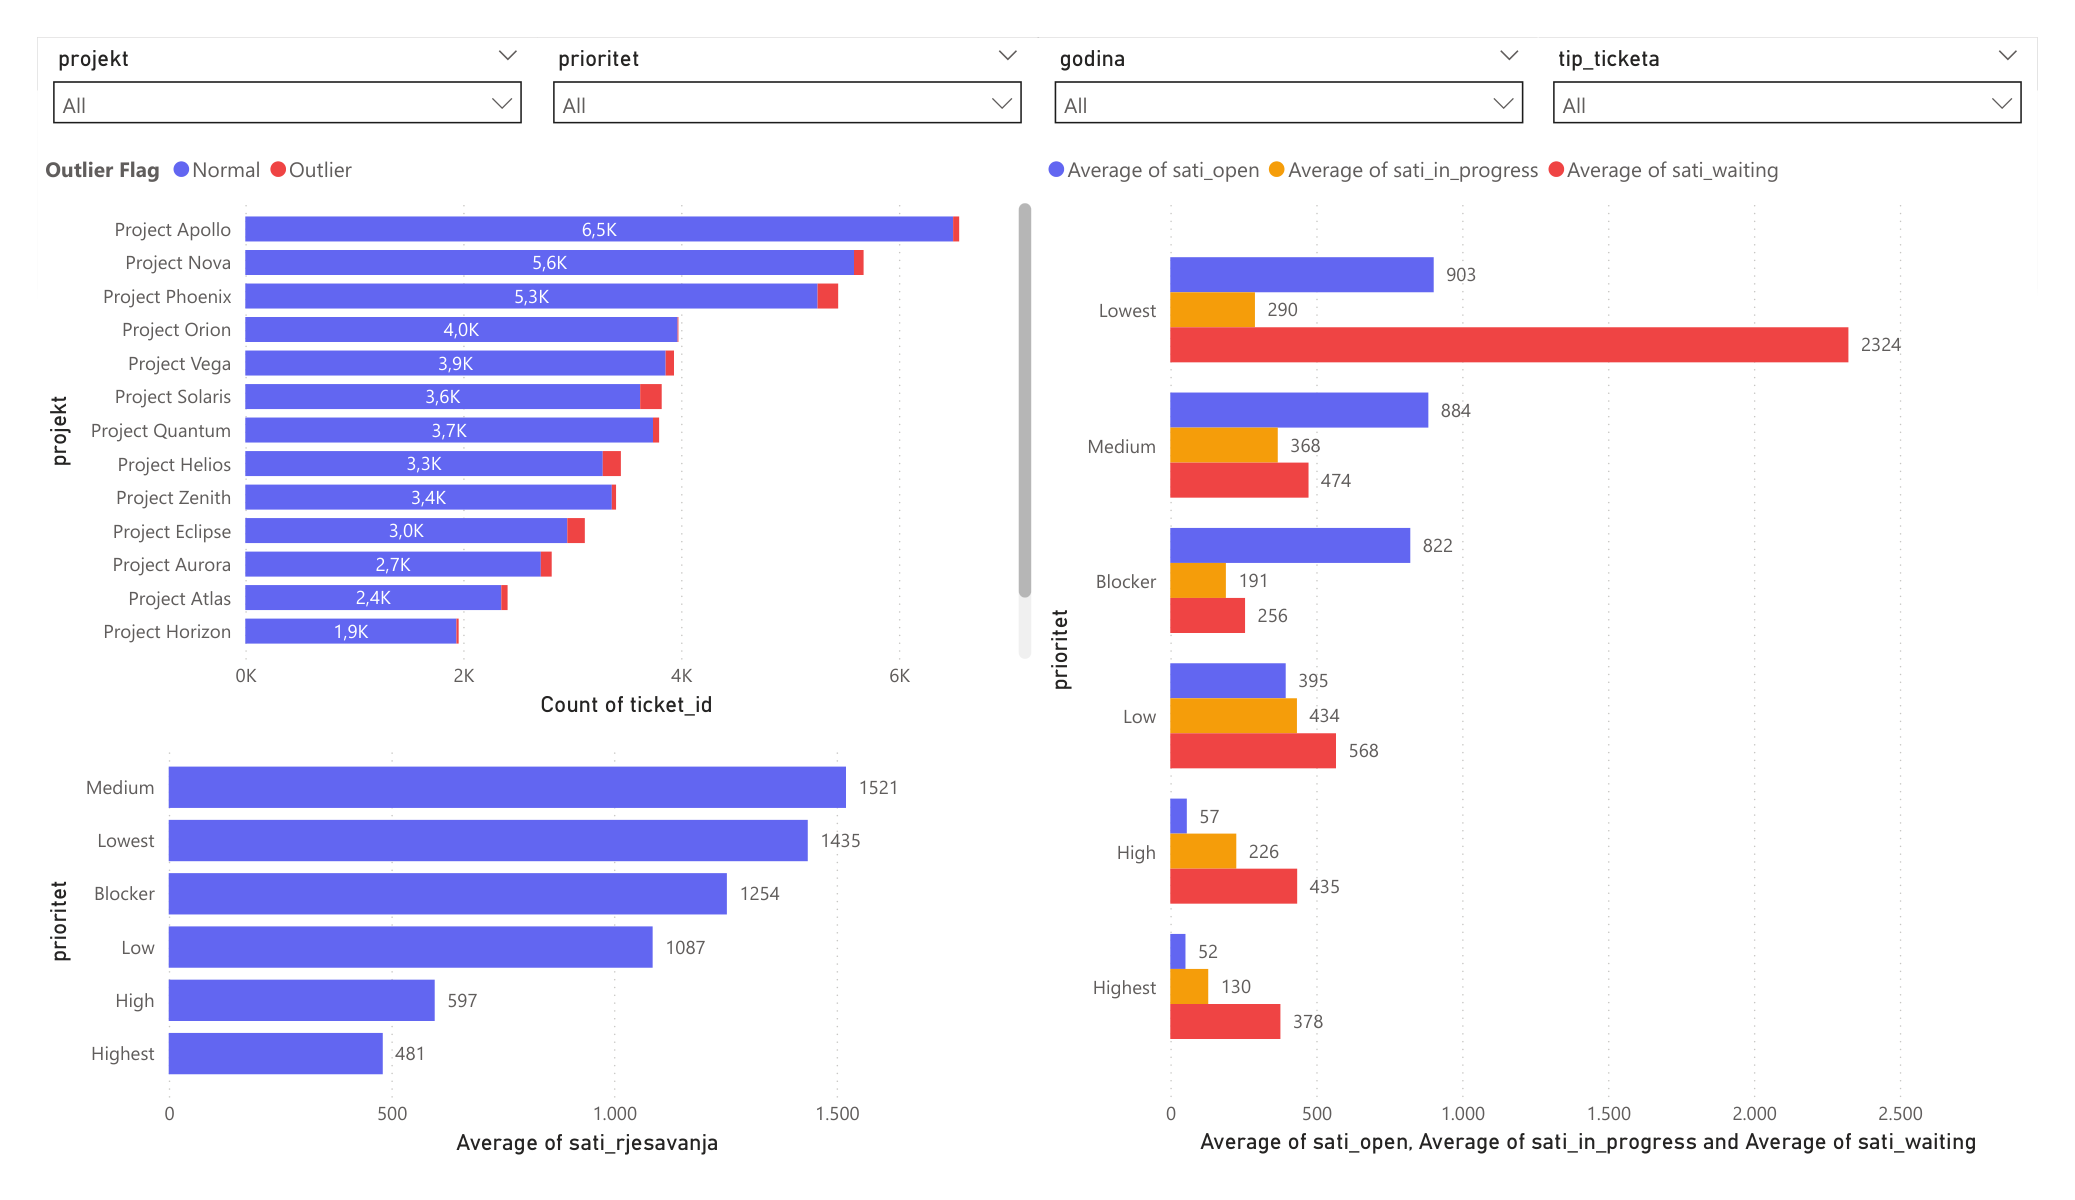

The dashboard page shown, as its layout file describes it:
{"tool":"powerbi","page":{"name":"Analiza outliera","canvas":[1280,720],"ordinal":1},"visuals":[{"type":"barChart","fields":{"Category":["Query1.projekt"],"Y":["CountNonNull(Query1.ticket_id)"],"Series":["Query1.Outlier Flag"]},"box":[0,64.3,640.6,375.5],"z":0},{"type":"clusteredBarChart","fields":{"Category":["Query1.prioritet"],"Y":["Avg(Query1.sati_rjesavanja)"]},"box":[0,439.6,640,280.1],"z":1000},{"type":"clusteredBarChart","fields":{"Category":["Query1.prioritet"],"Y":["Avg(Query1.sati_open)","Avg(Query1.sati_in_progress)","Avg(Query1.sati_waiting)"]},"box":[640.6,64.3,639.4,655.2],"z":2000},{"type":"slicer","fields":{"Values":["Query1.tip_ticketa"]},"box":[960,0,320,64.2],"z":3000},{"type":"slicer","fields":{"Values":["Query1.godina"]},"box":[640.6,0,320.3,64.3],"z":4000},{"type":"slicer","fields":{"Values":["Query1.prioritet"]},"box":[320,0,320,64.2],"z":5000},{"type":"slicer","fields":{"Values":["Query1.projekt"]},"box":[0,0,320.3,64.3],"z":6000}]}

Visuals, with their boxes on the page's 1280x720 design canvas (x1, y1, x2, y2). These are canvas units, not pixel positions in the 2075x1200 screenshot, which may show the page scaled, cropped or inside an application window:
barChart - Query1.projekt x CountNonNull(Query1.ticket_id): [0,64,641,440]
clusteredBarChart - Query1.prioritet x Avg(Query1.sati_rjesavanja): [0,440,640,720]
clusteredBarChart - Query1.prioritet x Avg(Query1.sati_open): [641,64,1280,720]
slicer - Query1.tip_ticketa: [960,0,1280,64]
slicer - Query1.godina: [641,0,961,64]
slicer - Query1.prioritet: [320,0,640,64]
slicer - Query1.projekt: [0,0,320,64]
